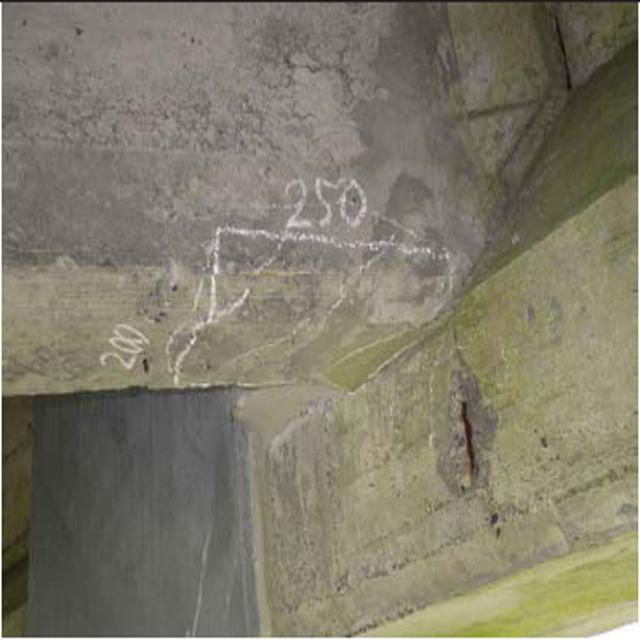spalling: (427, 344, 519, 534)
